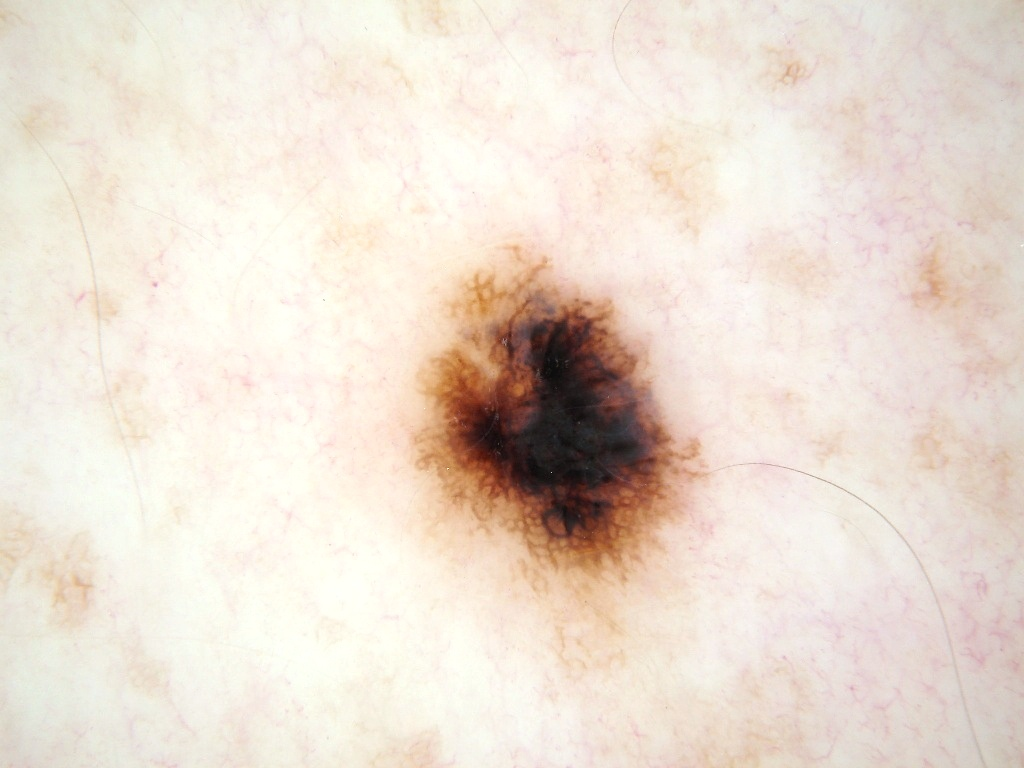Detected Lesion: (409, 238, 705, 583)
